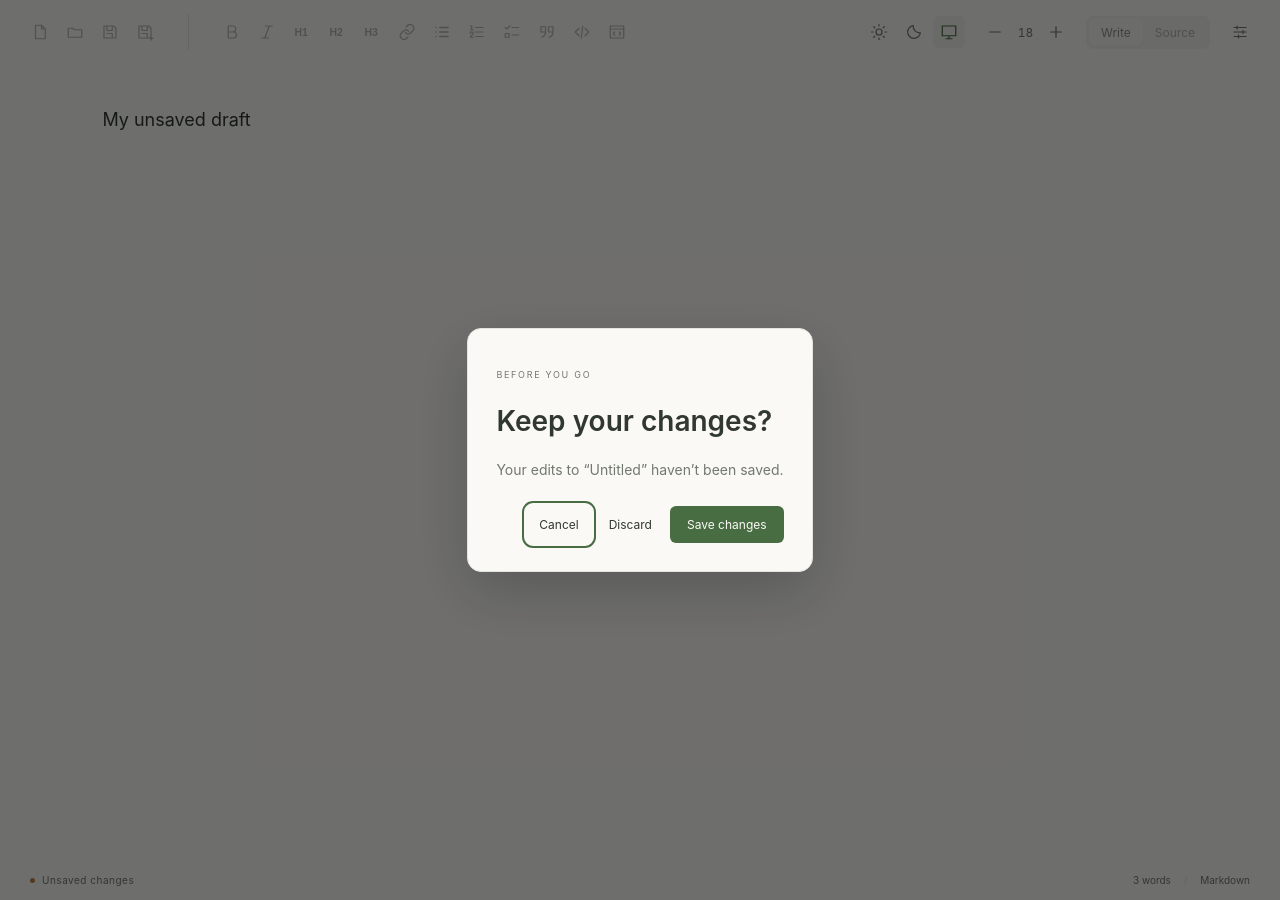
Scenario: native external file open › loads the file opened from outside once Discard is chosen
Check: the dialog is shown, box [467,328,813,572]
Click the button "Discard" at [630, 524], box [597,506,664,543]
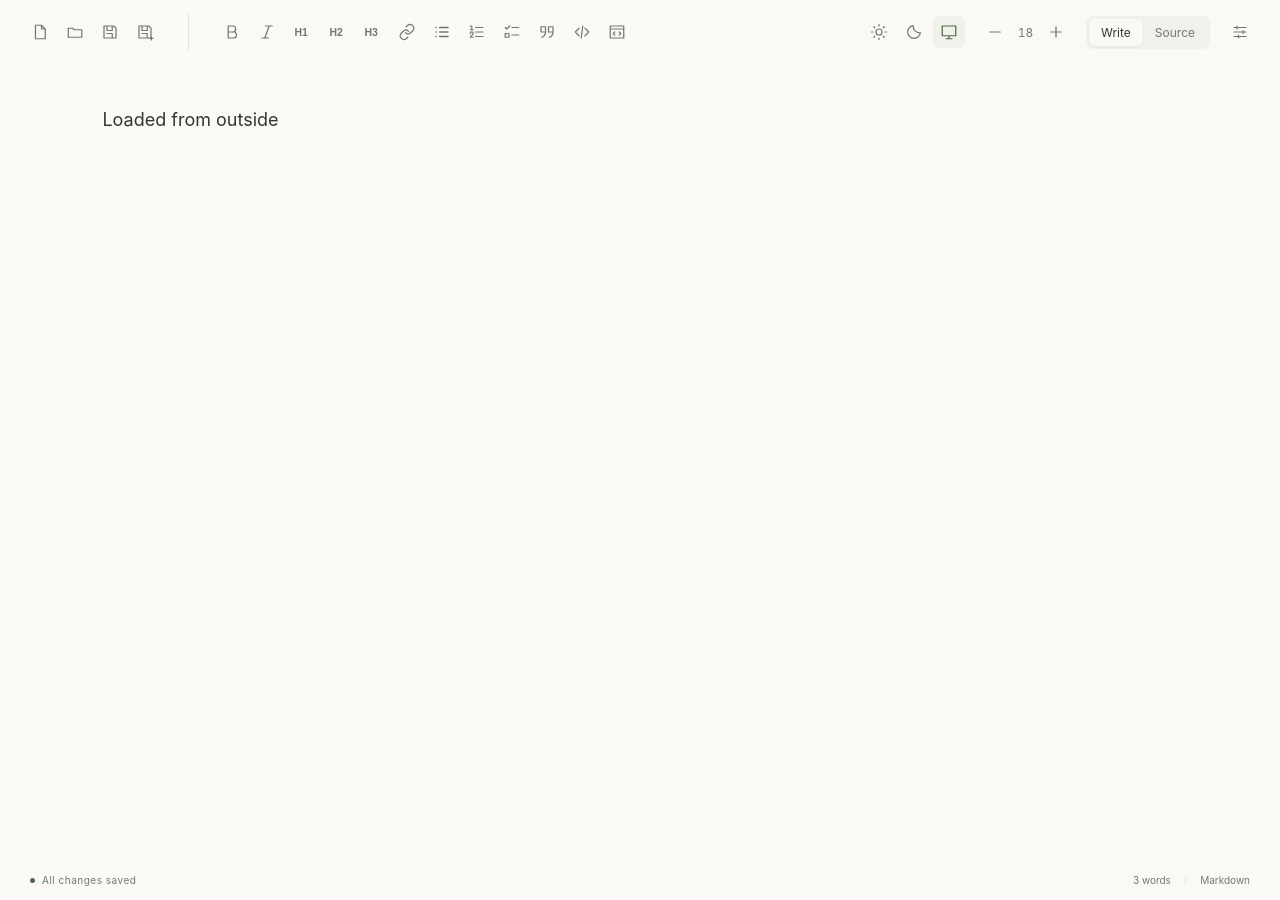
Check: the dialog is gone
Check: the field with class "tiptap" reads "Loaded from outside", box [102,109,279,130]
Check: the text "Unsaved changes" is gone
